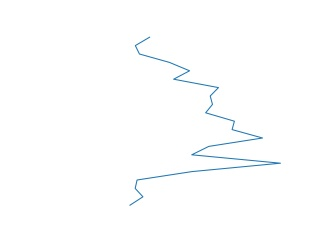floodSwamp: (126, 35, 283, 207)
